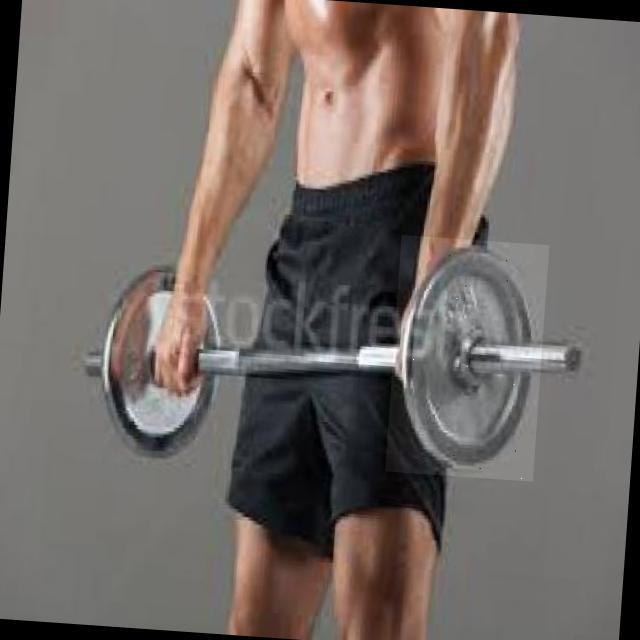barbell: (386, 236, 550, 483)
